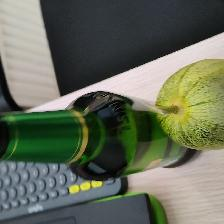gua: (157, 69, 224, 143)
